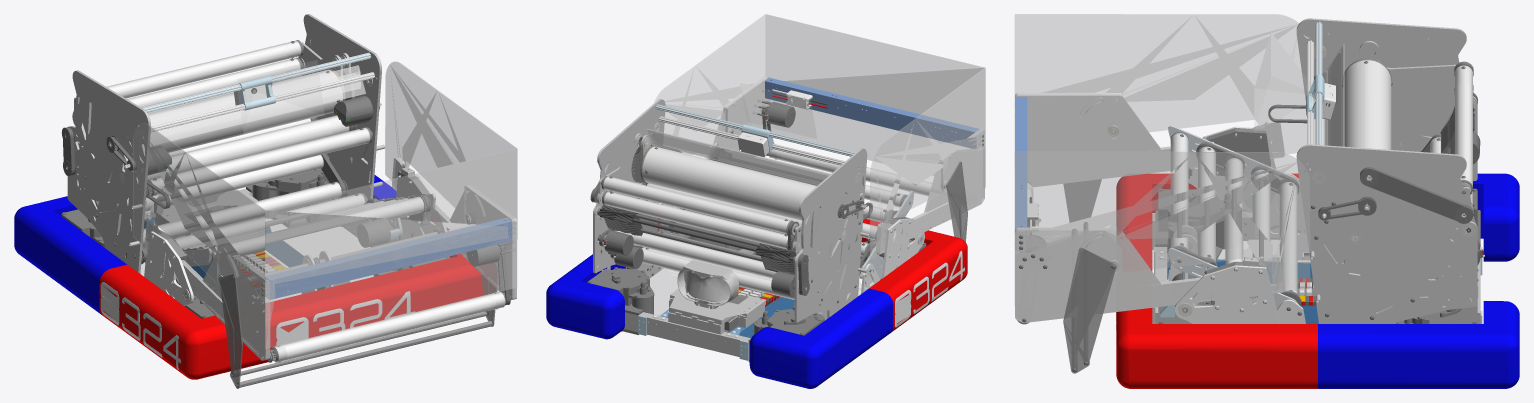
The picture shows the model from 3 angles, left to right: view 1: azimuth 30°, elevation 25°; view 2: azimuth 150°, elevation 25°; view 3: azimuth 270°, elevation 25°; orthographic projection. The views are drawn at different scales.
Visible parts, largest first — view 1: Part 29, Bumper Front, Part 30.002, Part 30.001, Shooter Plate.001, Bumper Right Back, Tube 2"x1"x25.979", Flywheel Tube, Shooter Plate, Flywheel PC Cover, mesh16034_mesh, Detailed Rack.003 (+36 smaller); view 2: Part 29, Part 30.002, Shooter Plate.001, Bumper Right Back, Part 30.001, Flywheel Tube, Bumper Left Back, Tube 2"x1"x25.979", Bumper Front, Detailed Rack.003, Shooter Plate, mesh16034_mesh (+36 smaller); view 3: Part 30.001, Part 30.002, Shooter Plate, Bumper Front, Bumper Left Back, Detailed Rack.002, Detailed Rack, Shooter Plate.001, Mirrored Hood Plate, Detailed Intake Plate, Flywheel Tube, Geekdown plate (+28 smaller).
Part boxes in pixels (bbox=[...]): Part 29: bbox=[265, 149, 516, 348]; Bumper Front: bbox=[99, 221, 497, 379]; Part 30.002: bbox=[133, 123, 264, 300]; Part 30.001: bbox=[385, 62, 517, 239]; Shooter Plate.001: bbox=[67, 70, 150, 273]; Bumper Right Back: bbox=[14, 196, 126, 315]; Tube 2"x1"x25.979": bbox=[265, 217, 512, 299]; Flywheel Tube: bbox=[148, 69, 342, 152]; Shooter Plate: bbox=[303, 14, 381, 236]; Flywheel PC Cover: bbox=[149, 65, 365, 145]; mesh16034_mesh: bbox=[237, 60, 323, 134]; Detailed Rack.003: bbox=[145, 218, 267, 360]; Part 29: bbox=[766, 14, 985, 188]; Part 30.002: bbox=[870, 68, 985, 258]; Shooter Plate.001: bbox=[794, 148, 867, 322]; Bumper Right Back: bbox=[749, 288, 893, 388]; Part 30.001: bbox=[654, 14, 765, 154]; Flywheel Tube: bbox=[642, 146, 816, 220]; Bumper Left Back: bbox=[546, 254, 625, 339]; Tube 2"x1"x25.979": bbox=[765, 77, 980, 148]; Bumper Front: bbox=[658, 204, 967, 332]; Detailed Rack.003: bbox=[877, 129, 984, 253]; Shooter Plate: bbox=[593, 99, 665, 278]; mesh16034_mesh: bbox=[740, 83, 816, 138]; Part 30.001: bbox=[1015, 152, 1309, 293]; Part 30.002: bbox=[1015, 14, 1306, 154]; Shooter Plate: bbox=[1296, 144, 1477, 323]; Bumper Front: bbox=[1116, 173, 1317, 388]; Bumper Left Back: bbox=[1318, 301, 1519, 388]; Detailed Rack.002: bbox=[1015, 94, 1284, 187]; Detailed Rack: bbox=[1015, 229, 1284, 322]; Shooter Plate.001: bbox=[1296, 18, 1477, 181]; Mirrored Hood Plate: bbox=[1359, 41, 1473, 129]; Detailed Intake Plate: bbox=[1175, 265, 1280, 323]; Flywheel Tube: bbox=[1343, 60, 1391, 149]; Geekdown plate: bbox=[1063, 247, 1116, 373].
Size of the model in its own units: 85.14 by 62.43 by 106.
